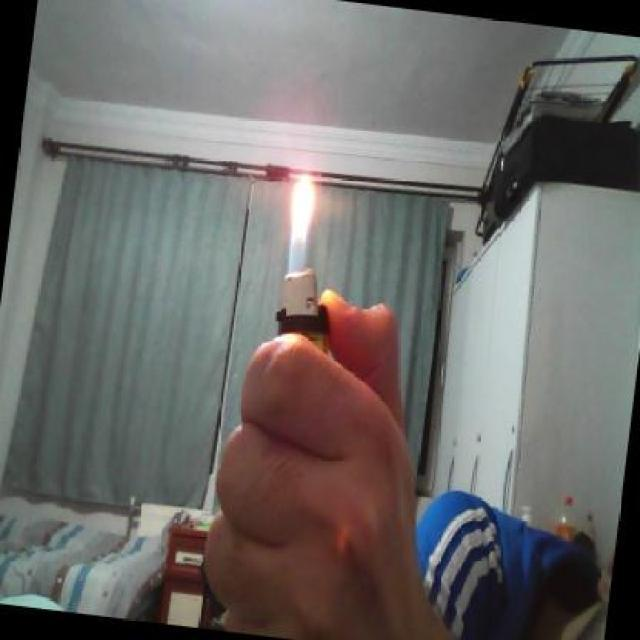Fire: (288, 160, 324, 266)
